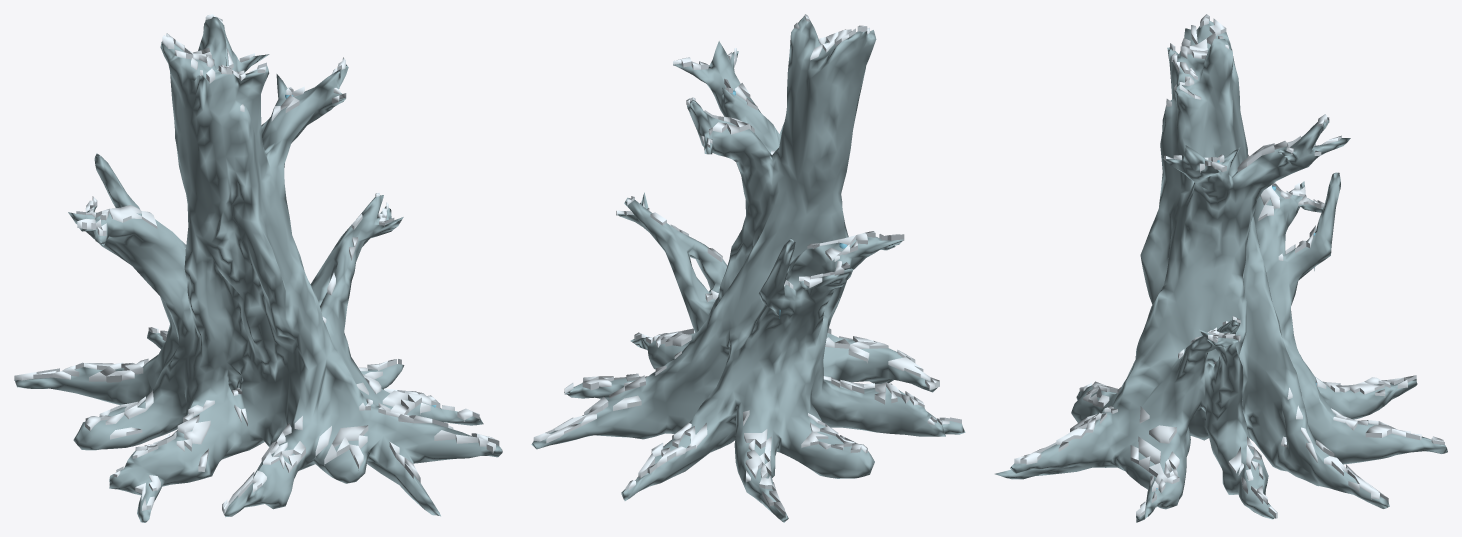
File: ThirdRoom_CanyonDeadTree.fbx
The picture shows the model from 3 angles, left to right: view 1: azimuth 30°, elevation 25°; view 2: azimuth 150°, elevation 25°; view 3: azimuth 270°, elevation 25°; orthographic projection. The views are drawn at different scales.
Visible parts, largest first — view 1: ThirdRoom_CanyonDeadTree_LOD0; view 2: ThirdRoom_CanyonDeadTree_LOD0; view 3: ThirdRoom_CanyonDeadTree_LOD0.
Boxes of the visible parts, x1=… form: ThirdRoom_CanyonDeadTree_LOD0: x1=14, y1=14, x2=502, y2=522; ThirdRoom_CanyonDeadTree_LOD0: x1=531, y1=14, x2=965, y2=522; ThirdRoom_CanyonDeadTree_LOD0: x1=995, y1=14, x2=1447, y2=522.
Size of what is drawn, in the model's own units: 4.81 by 5.86 by 5.99.
